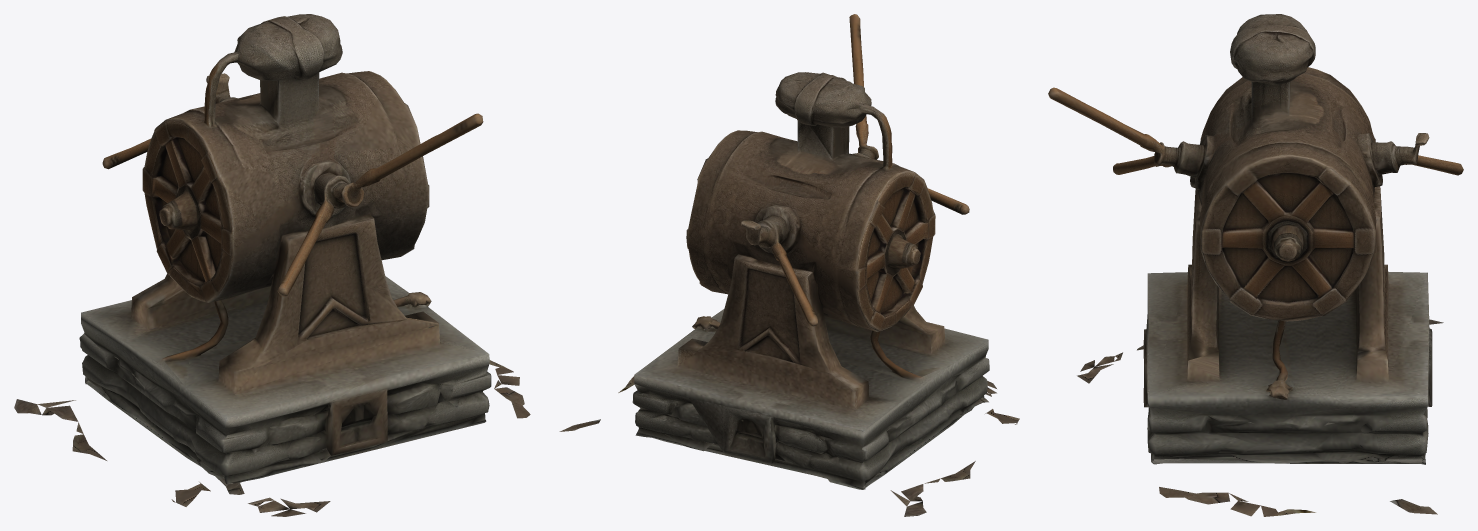
File: winch.glb
3 views of the same model, side by side, from view 1: azimuth 30°, elevation 25°; view 2: azimuth 150°, elevation 25°; view 3: azimuth 270°, elevation 25° (orthographic). The views are drawn at different scales.
Bounding box in the file's own units: 1.64 × 1.5 × 1.47.
Materials: 1 (1 with a texture image).
